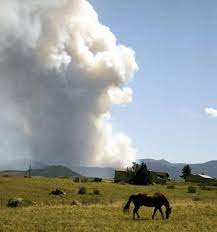smoke: (1, 1, 135, 166)
